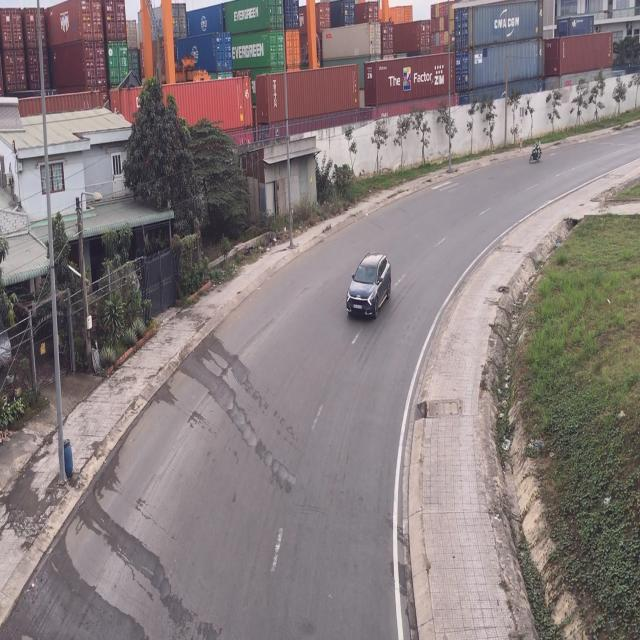car: (345, 254, 392, 324)
motorbike: (527, 138, 544, 164)
